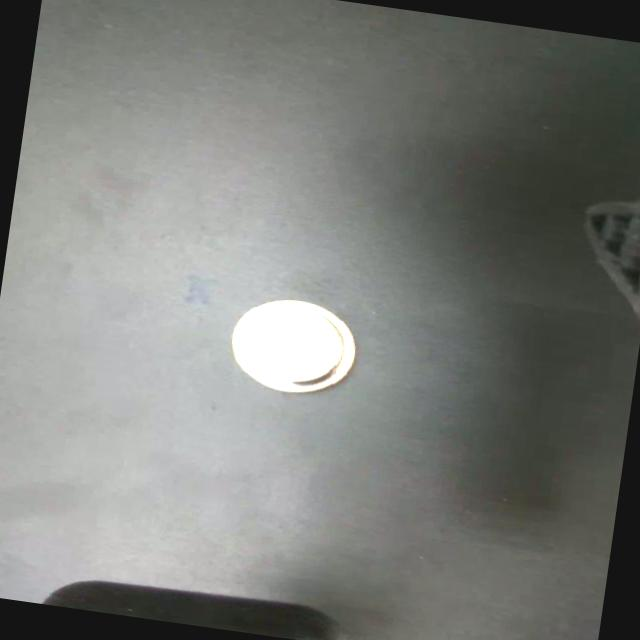sensor: (222, 289, 362, 402)
